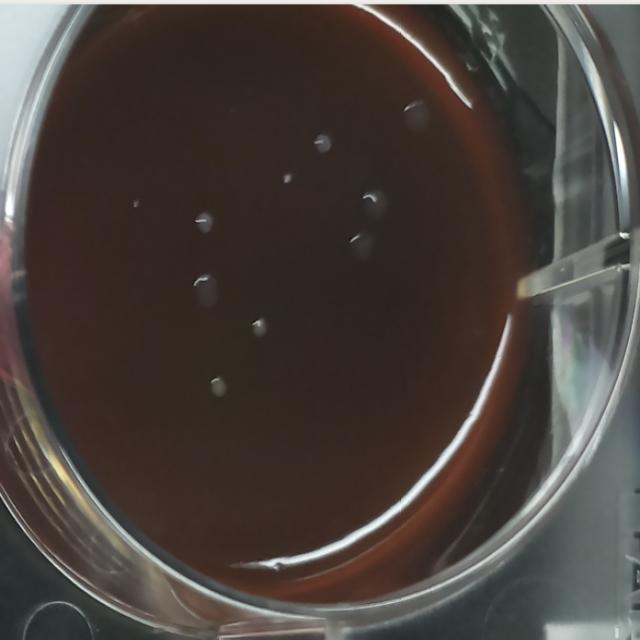Staphylococcus: (279, 168, 297, 190)
Vagococcus: (205, 372, 233, 406), (248, 313, 274, 348)
Vibrio: (188, 270, 224, 316), (398, 97, 434, 140), (345, 227, 380, 269), (360, 185, 394, 223)
